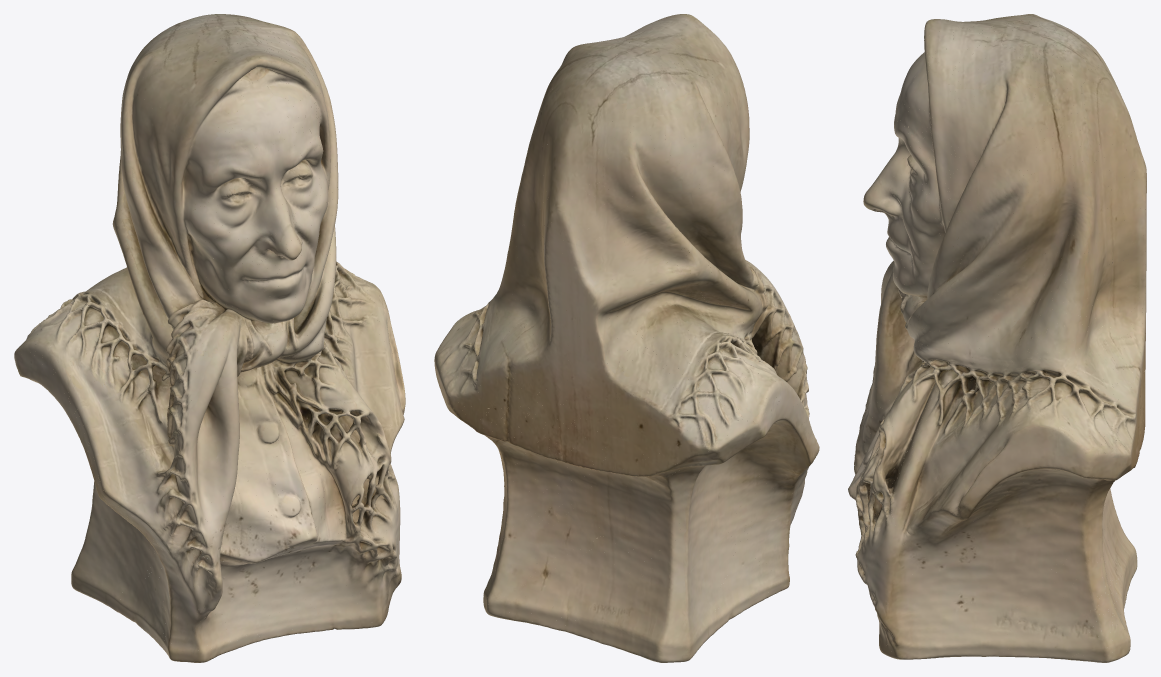
Rendered from 石膏头像_女老年_头巾胸像01_opt.glb.
3 views of the same model, side by side, from view 1: azimuth 30°, elevation 25°; view 2: azimuth 150°, elevation 25°; view 3: azimuth 270°, elevation 25° (orthographic). The views are drawn at different scales.
Visible parts, largest first — view 1: S_3048_MT_Rzezba_Brzegi_RCTXT_projZbr2SDiv_0_2, S_3048_MT_Rzezba_Brzegi_RCTXT_projZbr2SDiv_0, S_3048_MT_Rzezba_Brzegi_RCTXT_projZbr2SDiv_0_3, S_3048_MT_Rzezba_Brzegi_RCTXT_projZbr2SDiv_0_4, S_3048_MT_Rzezba_Brzegi_RCTXT_projZbr2SDiv_0_1, S_3048_MT_Rzezba_Brzegi_RCTXT_projZbr2SDiv_0_5; view 2: S_3048_MT_Rzezba_Brzegi_RCTXT_projZbr2SDiv_0_4, S_3048_MT_Rzezba_Brzegi_RCTXT_projZbr2SDiv_0_1, S_3048_MT_Rzezba_Brzegi_RCTXT_projZbr2SDiv_0_2, S_3048_MT_Rzezba_Brzegi_RCTXT_projZbr2SDiv_0_3, S_3048_MT_Rzezba_Brzegi_RCTXT_projZbr2SDiv_0_5, S_3048_MT_Rzezba_Brzegi_RCTXT_projZbr2SDiv_0; view 3: S_3048_MT_Rzezba_Brzegi_RCTXT_projZbr2SDiv_0_1, S_3048_MT_Rzezba_Brzegi_RCTXT_projZbr2SDiv_0_3, S_3048_MT_Rzezba_Brzegi_RCTXT_projZbr2SDiv_0_5, S_3048_MT_Rzezba_Brzegi_RCTXT_projZbr2SDiv_0_2, S_3048_MT_Rzezba_Brzegi_RCTXT_projZbr2SDiv_0_4, S_3048_MT_Rzezba_Brzegi_RCTXT_projZbr2SDiv_0.
Boxes of the visible parts, x1,y1,x2,y2 form: S_3048_MT_Rzezba_Brzegi_RCTXT_projZbr2SDiv_0_2: [108, 14, 405, 662]; S_3048_MT_Rzezba_Brzegi_RCTXT_projZbr2SDiv_0: [14, 59, 404, 661]; S_3048_MT_Rzezba_Brzegi_RCTXT_projZbr2SDiv_0_3: [25, 15, 401, 662]; S_3048_MT_Rzezba_Brzegi_RCTXT_projZbr2SDiv_0_4: [14, 36, 390, 662]; S_3048_MT_Rzezba_Brzegi_RCTXT_projZbr2SDiv_0_1: [86, 65, 405, 662]; S_3048_MT_Rzezba_Brzegi_RCTXT_projZbr2SDiv_0_5: [142, 14, 405, 442]; S_3048_MT_Rzezba_Brzegi_RCTXT_projZbr2SDiv_0_4: [445, 14, 819, 662]; S_3048_MT_Rzezba_Brzegi_RCTXT_projZbr2SDiv_0_1: [435, 35, 770, 644]; S_3048_MT_Rzezba_Brzegi_RCTXT_projZbr2SDiv_0_2: [440, 14, 809, 550]; S_3048_MT_Rzezba_Brzegi_RCTXT_projZbr2SDiv_0_3: [434, 14, 808, 643]; S_3048_MT_Rzezba_Brzegi_RCTXT_projZbr2SDiv_0_5: [454, 19, 662, 419]; S_3048_MT_Rzezba_Brzegi_RCTXT_projZbr2SDiv_0: [437, 94, 819, 662]; S_3048_MT_Rzezba_Brzegi_RCTXT_projZbr2SDiv_0_1: [849, 67, 1146, 662]; S_3048_MT_Rzezba_Brzegi_RCTXT_projZbr2SDiv_0_3: [856, 19, 1145, 658]; S_3048_MT_Rzezba_Brzegi_RCTXT_projZbr2SDiv_0_5: [894, 18, 1146, 524]; S_3048_MT_Rzezba_Brzegi_RCTXT_projZbr2SDiv_0_2: [854, 14, 1146, 656]; S_3048_MT_Rzezba_Brzegi_RCTXT_projZbr2SDiv_0_4: [854, 14, 1146, 662]; S_3048_MT_Rzezba_Brzegi_RCTXT_projZbr2SDiv_0: [848, 24, 1145, 653].
Size of the model in its own units: 0.1859 by 0.3 by 0.1391.
Materials: 1 (1 with a texture image).
